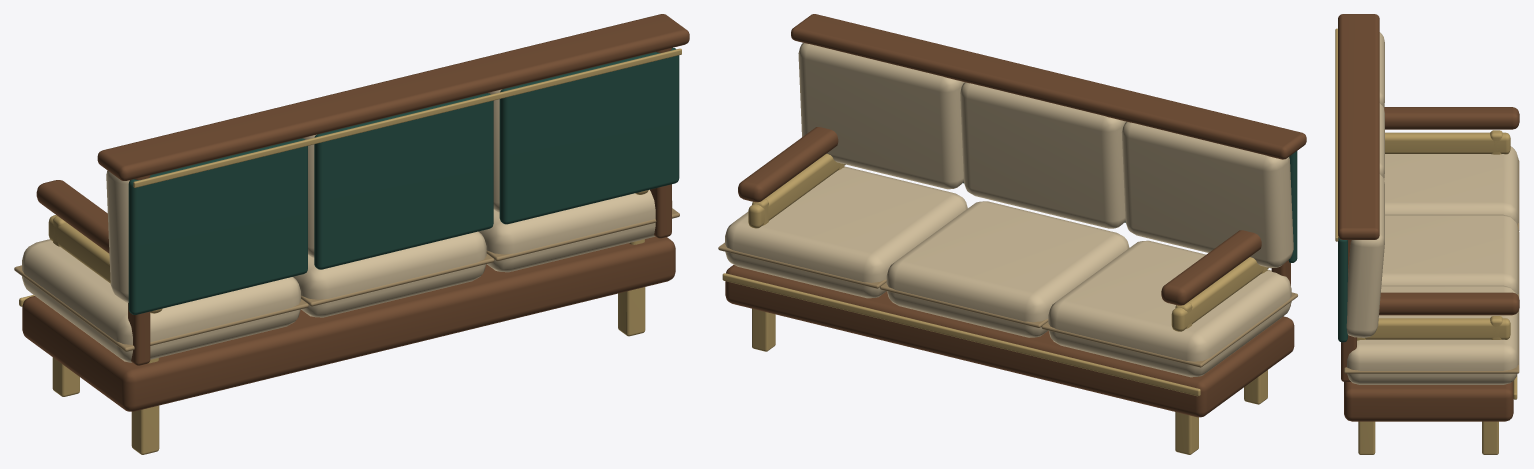
The model's file is gjh-lounge-bench.glb.
The picture shows the model from 3 angles, left to right: view 1: azimuth 30°, elevation 25°; view 2: azimuth 150°, elevation 25°; view 3: azimuth 270°, elevation 25°; orthographic projection. The views are drawn at different scales.
Visible parts, largest first — view 1: gjh-lounge-bench; view 2: gjh-lounge-bench; view 3: gjh-lounge-bench.
Part boxes in pixels (x1,y1,x2,y2): gjh-lounge-bench: [14, 14, 689, 454]; gjh-lounge-bench: [718, 14, 1306, 454]; gjh-lounge-bench: [1335, 14, 1519, 454].
Bounding box in the file's own units: 2.58 × 1.32 × 0.922.
